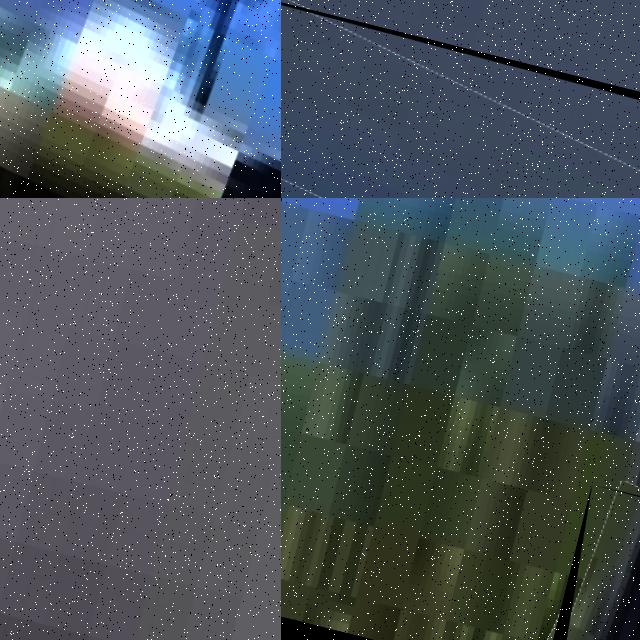drone: (281, 0, 640, 198), (0, 0, 281, 198), (542, 484, 640, 640)
